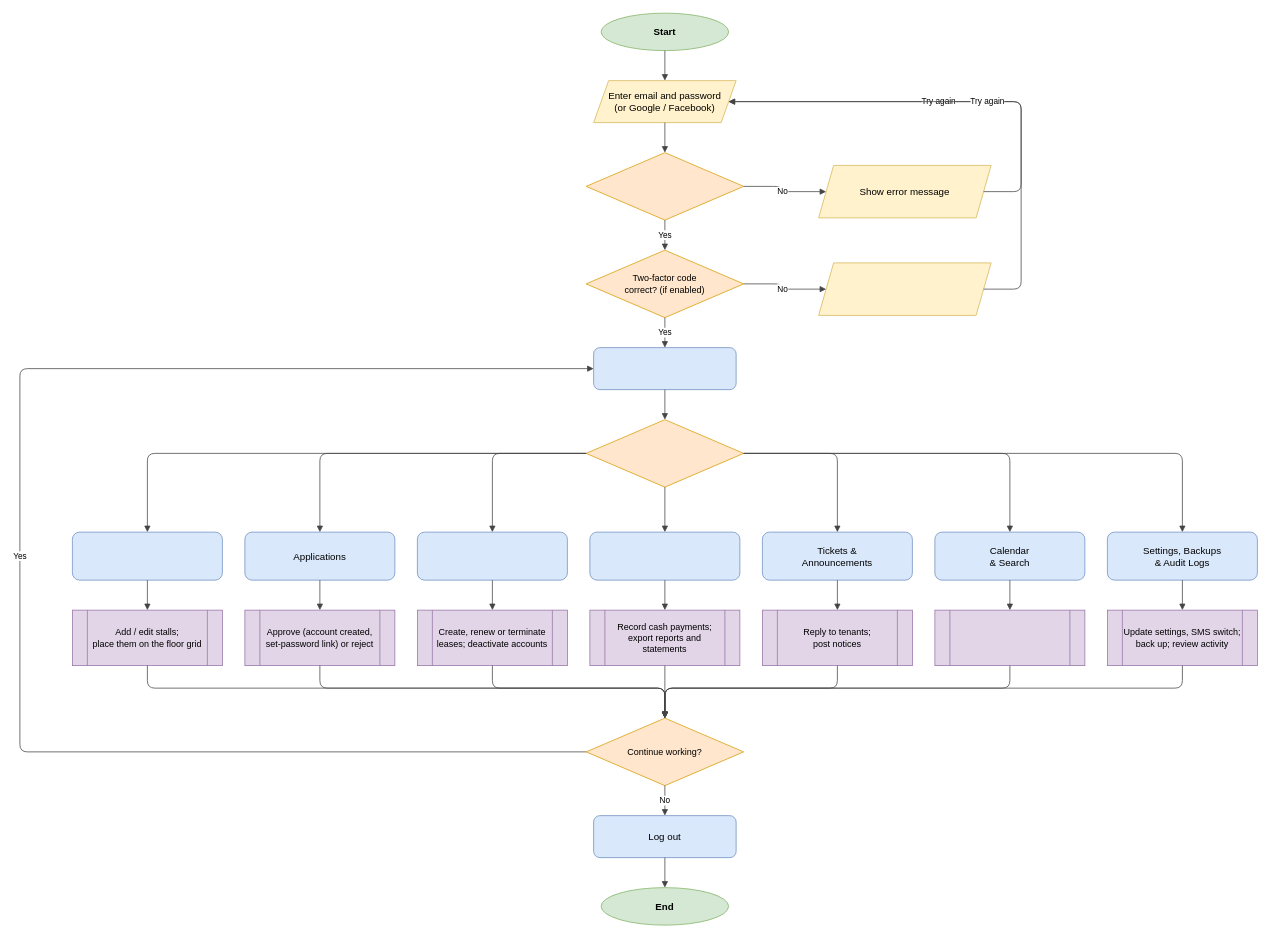
Some shapes in this 1271 by 938 pixel diagram are drawn without their labels. The centre of each missing label's shape, as x and y in pixels:
"Admin Dashboard (needs-attention panel)" belongs at point 664,368.
"Choose a module" belongs at point 664,453.
"Credentials valid and account active?" belongs at point 664,186.
"Leases & Tenant Accounts" belongs at point 492,555.
"Payments & Reports" belongs at point 664,555.
"Show attempts left; sign out after 5" belongs at point 904,288.
"Stalls, Floors & Floor Map" belongs at point 147,555.
"View due dates and lease ends; find records" belongs at point 1009,637.
